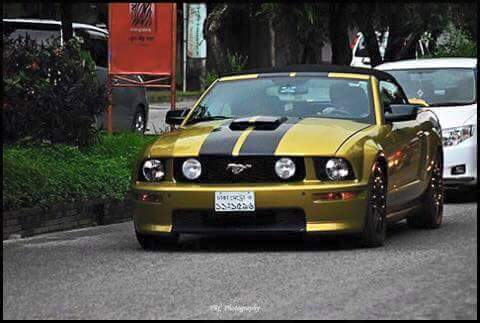registration_plate: (214, 191, 255, 211)
